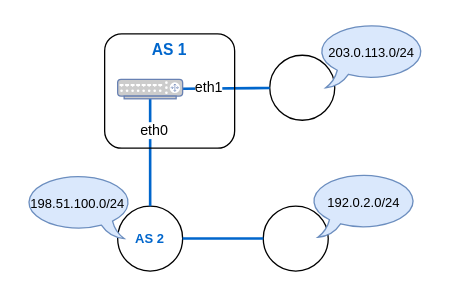
This 450x294 diagram has some shape labels left out. The centre of each missing label's shape, as x and y in pixels:
"AS 3" belongs at [295,238].
"AS 4" belongs at [301,87].
